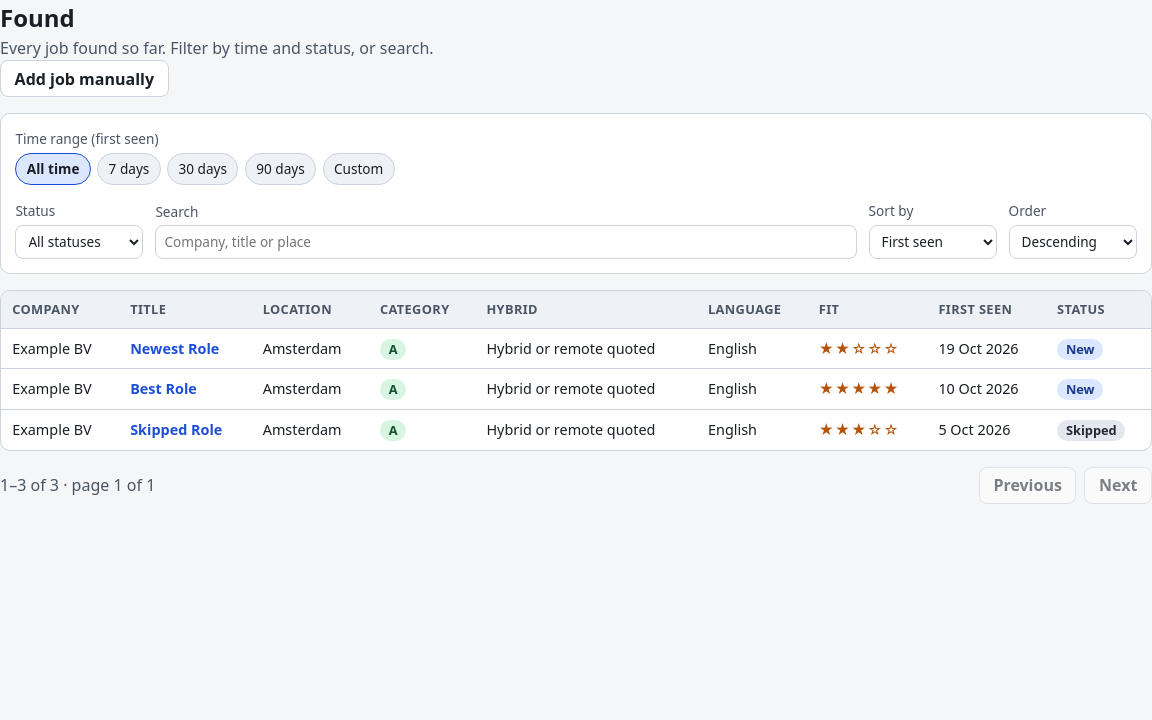
Test case: FoundPage › closes the job dialog with Escape
Step 1. Click the button "Best Role" → (164, 389), box [130,378,197,400]
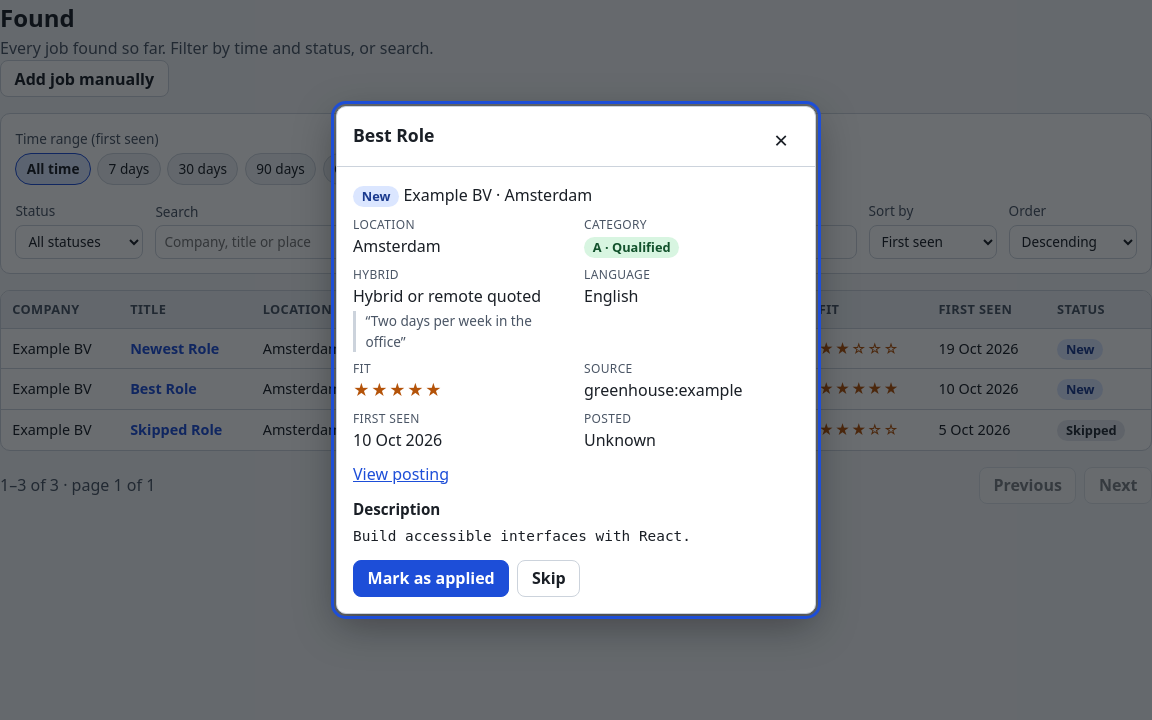
Step 2. Press Escape
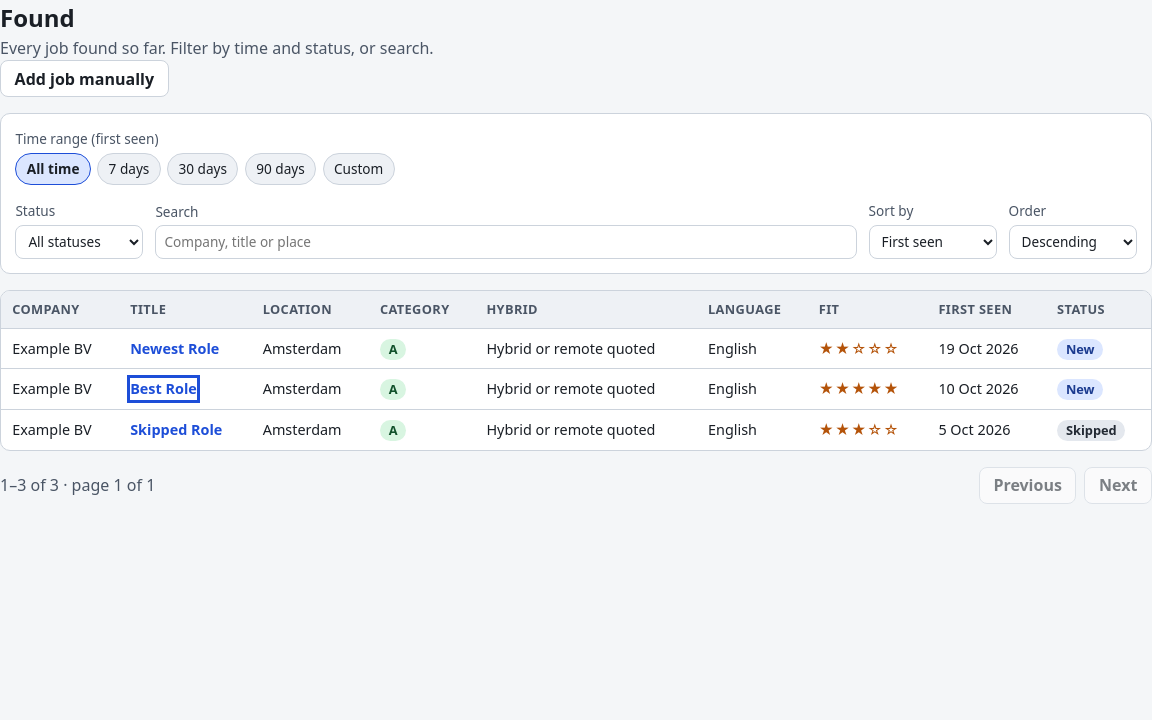
Result: the dialog is gone
